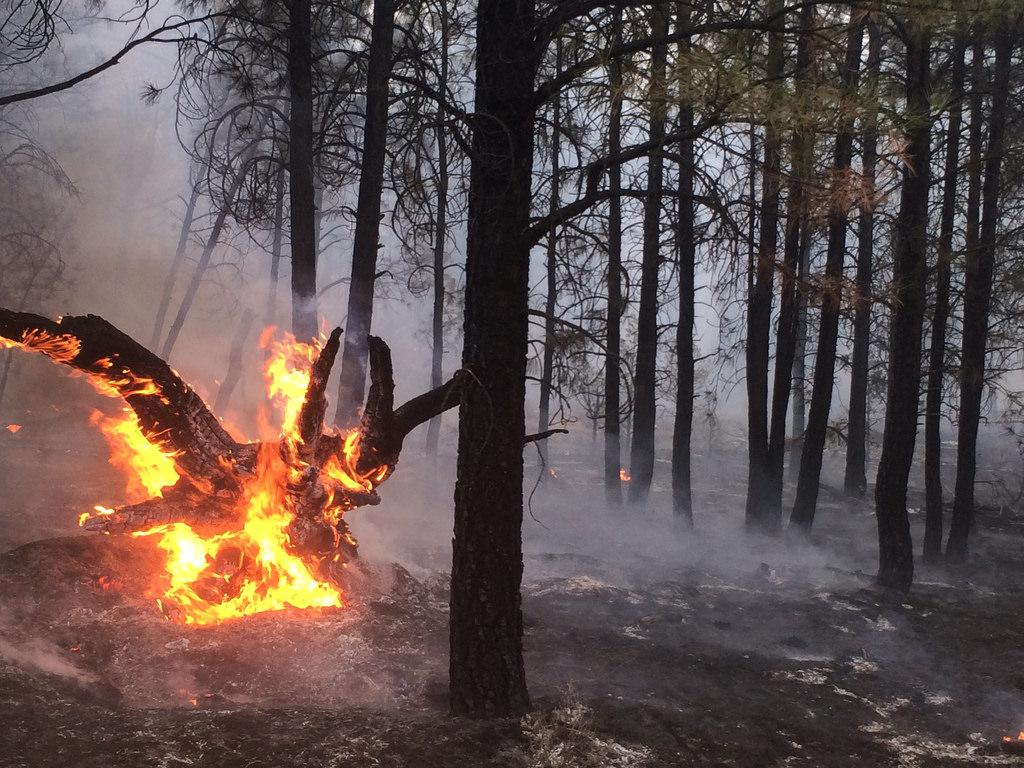fire: (244, 492, 298, 566), (256, 588, 368, 616), (166, 514, 206, 582), (122, 446, 170, 496)
